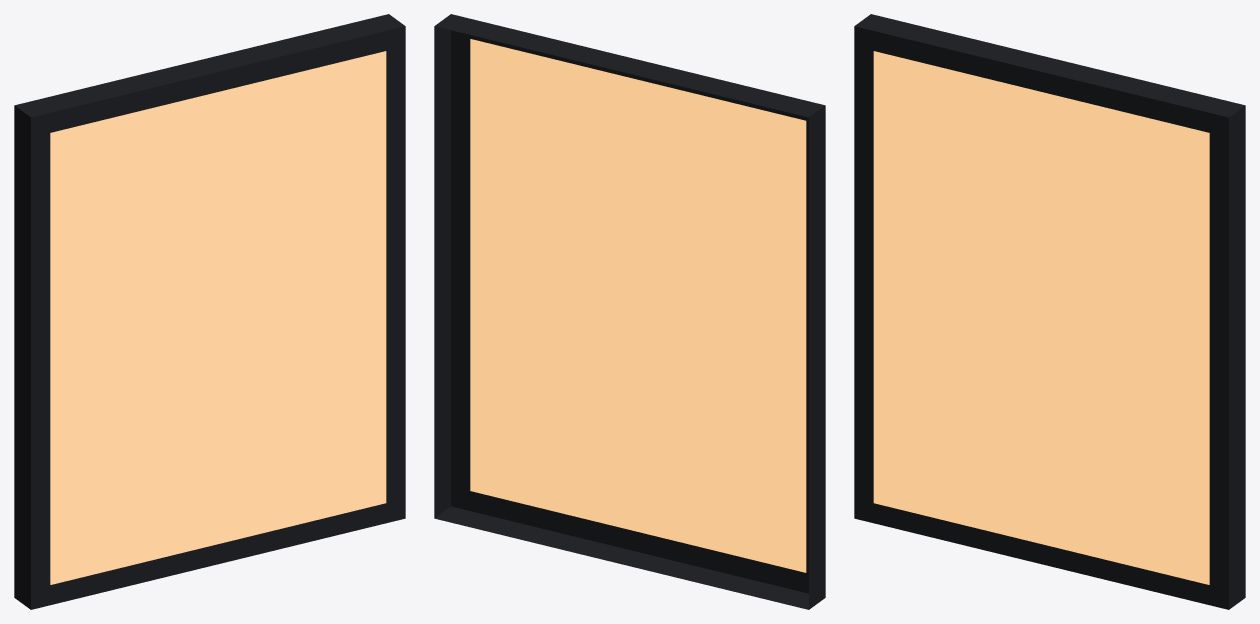
The model's file is window_a.glb.
The picture shows the model from 3 angles, left to right: view 1: azimuth 30°, elevation 25°; view 2: azimuth 150°, elevation 25°; view 3: azimuth 330°, elevation 25°; orthographic projection.
Visible parts, largest first — view 1: window_a; view 2: window_a; view 3: window_a.
Boxes of the visible parts, x1,y1,x2,y2 form: window_a: (14, 14, 405, 609); window_a: (434, 14, 825, 609); window_a: (854, 14, 1245, 609).
Size of the model in its own units: 1.56 by 1.96 by 0.1199.
